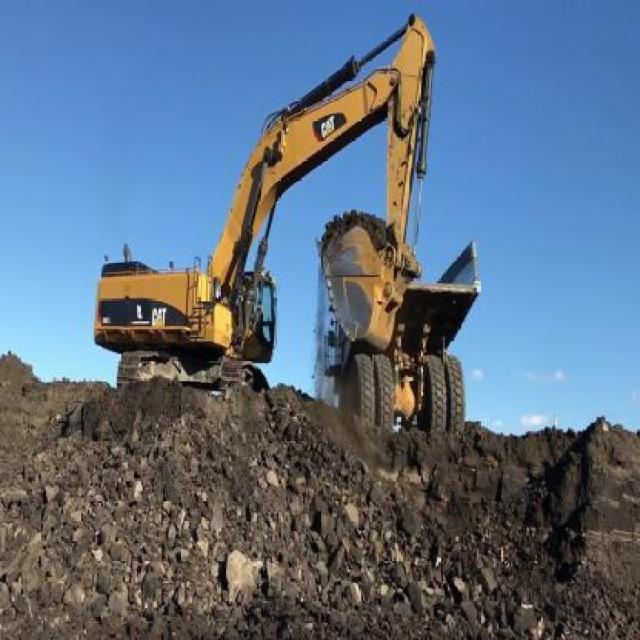dump_truck: (310, 208, 482, 430)
excavator: (91, 12, 437, 394)
